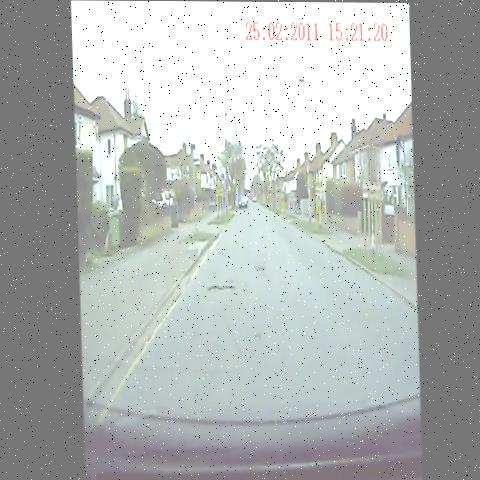pothole: (202, 273, 240, 301), (250, 254, 266, 278)
